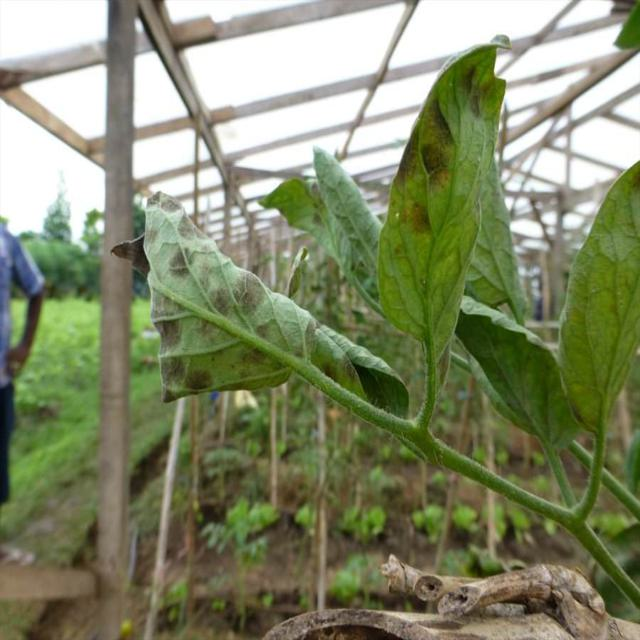Leaf_Mold: (107, 189, 269, 405), (391, 90, 456, 193), (460, 62, 496, 118), (402, 196, 435, 239)
